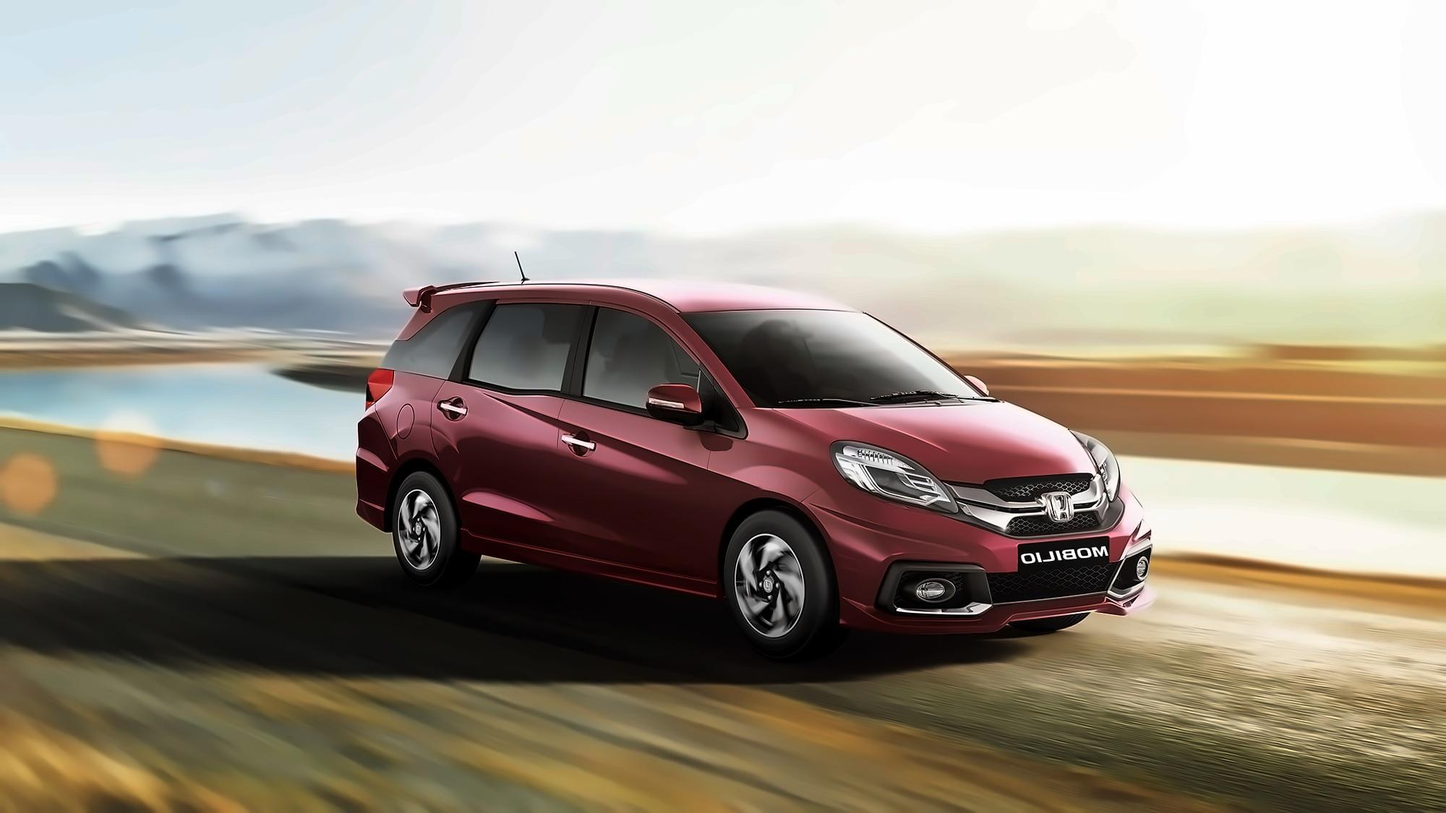Car hood: (759, 396, 1096, 488)
Driver-s door - -F-R-: (541, 275, 730, 608)
Fender - -F-R-: (695, 396, 840, 619)
Fender - -R-R-: (370, 365, 454, 500)
Front bumper: (800, 478, 1159, 639)
Headlight - -L-: (1067, 422, 1125, 511)
Headlight - -R-: (833, 433, 965, 528)
Passenger-s door - -R-R-: (419, 271, 594, 591)
Rear bumper: (342, 442, 406, 536)
Rear light - -R-: (361, 365, 395, 415)
Side bumper - -R-: (452, 503, 723, 618)
Side mirror - -R-: (641, 380, 721, 442)
